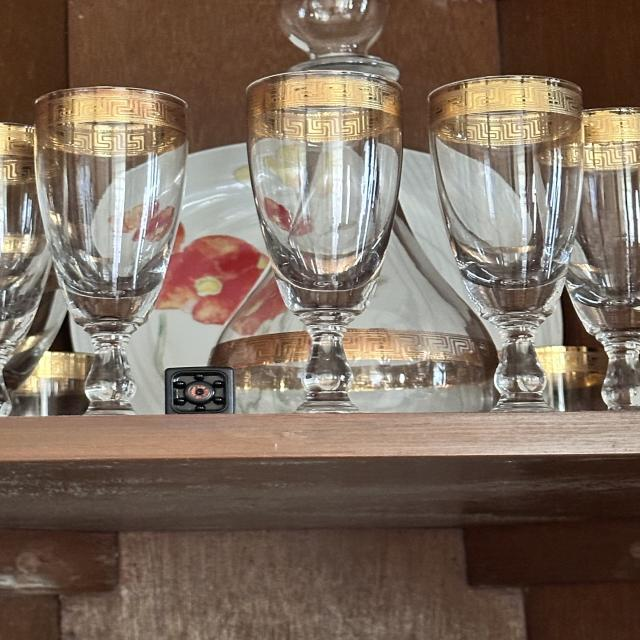hidden camera: (187, 382, 214, 403)
